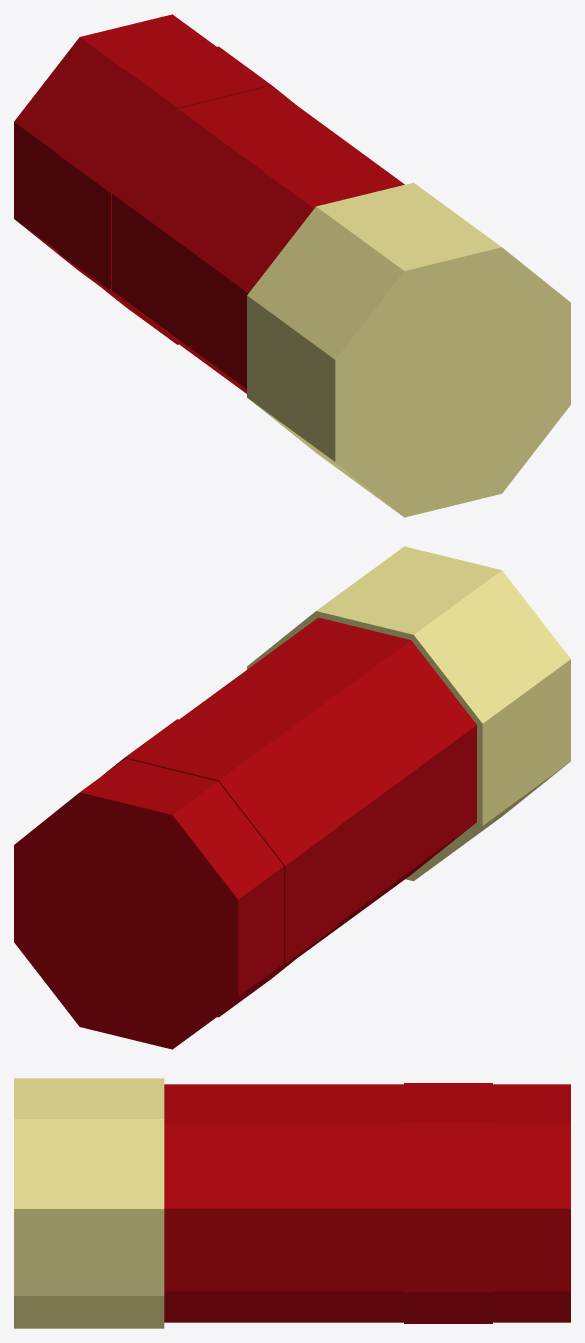
Rendered from ce_ammo_shotgun_shot_a.obj.
The picture shows the model from 3 angles, top to bottom: view 1: azimuth 30°, elevation 25°; view 2: azimuth 150°, elevation 25°; view 3: azimuth 270°, elevation 25°; orthographic projection. The views are drawn at different scales.
Visible parts, largest first — view 1: ce_ammo_shotgun_shot_a_0, ce_ammo_shotgun_shot_a_1, ce_ammo_shotgun_shot_a_2, ce_ammo_shotgun_shot_a_3; view 2: ce_ammo_shotgun_shot_a_3, ce_ammo_shotgun_shot_a_1, ce_ammo_shotgun_shot_a_0, ce_ammo_shotgun_shot_a_2; view 3: ce_ammo_shotgun_shot_a_1, ce_ammo_shotgun_shot_a_0, ce_ammo_shotgun_shot_a_2, ce_ammo_shotgun_shot_a_3.
Boxes of the visible parts, <box> form: ce_ammo_shotgun_shot_a_0: <box>247,182,570,517</box>; ce_ammo_shotgun_shot_a_1: <box>112,86,404,393</box>; ce_ammo_shotgun_shot_a_2: <box>58,46,293,344</box>; ce_ammo_shotgun_shot_a_3: <box>14,14,216,283</box>; ce_ammo_shotgun_shot_a_3: <box>14,759,283,1049</box>; ce_ammo_shotgun_shot_a_1: <box>179,617,476,956</box>; ce_ammo_shotgun_shot_a_0: <box>247,546,570,881</box>; ce_ammo_shotgun_shot_a_2: <box>102,719,337,1017</box>; ce_ammo_shotgun_shot_a_1: <box>164,1084,403,1322</box>; ce_ammo_shotgun_shot_a_0: <box>14,1078,164,1328</box>; ce_ammo_shotgun_shot_a_2: <box>404,1083,492,1323</box>; ce_ammo_shotgun_shot_a_3: <box>493,1084,570,1322</box>.
Bounding box in the file's own units: 0.1746 × 0.1746 × 0.42.
